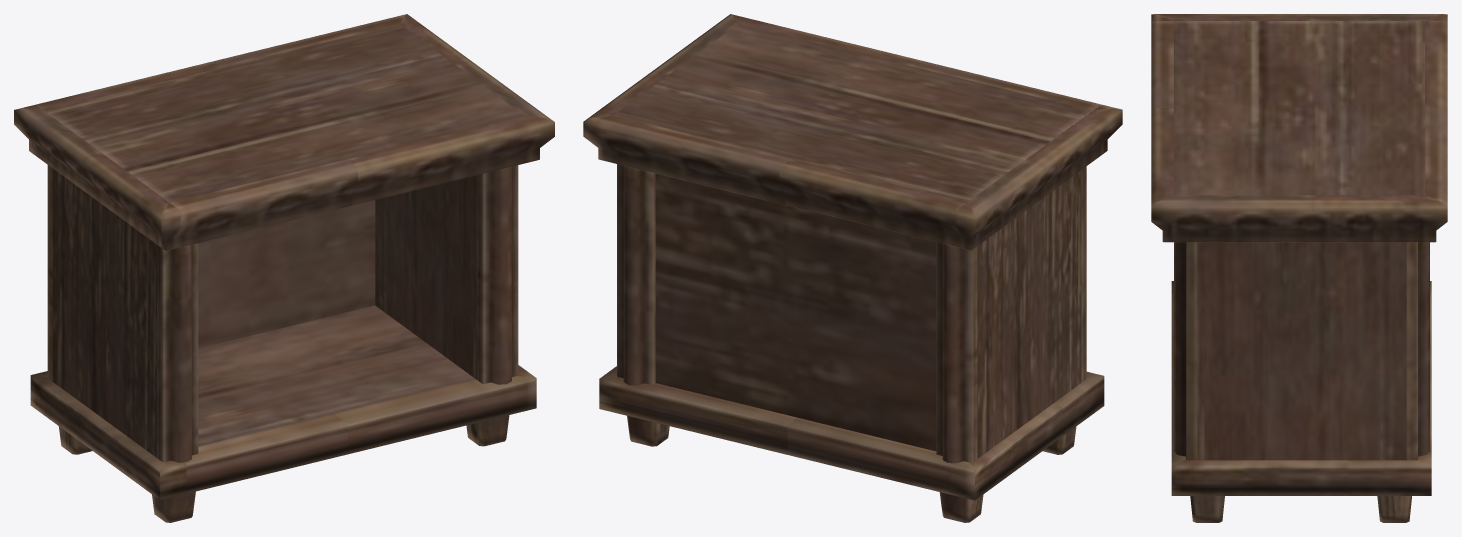
The model's file is table_night_comfort2.glb.
The picture shows the model from 3 angles, left to right: view 1: azimuth 30°, elevation 25°; view 2: azimuth 150°, elevation 25°; view 3: azimuth 270°, elevation 25°; orthographic projection.
Parts seen in each view (by area): view 1: ensemble_set_dungeon_sideboard_mini; view 2: ensemble_set_dungeon_sideboard_mini; view 3: ensemble_set_dungeon_sideboard_mini.
Boxes of the visible parts, x1,y1,x2,y2 form: ensemble_set_dungeon_sideboard_mini: [14, 14, 554, 522]; ensemble_set_dungeon_sideboard_mini: [583, 14, 1122, 522]; ensemble_set_dungeon_sideboard_mini: [1151, 14, 1447, 522].
Bounding box in the file's own units: 0.999 × 0.8012 × 0.65.
Materials: 1 (1 with a texture image).
